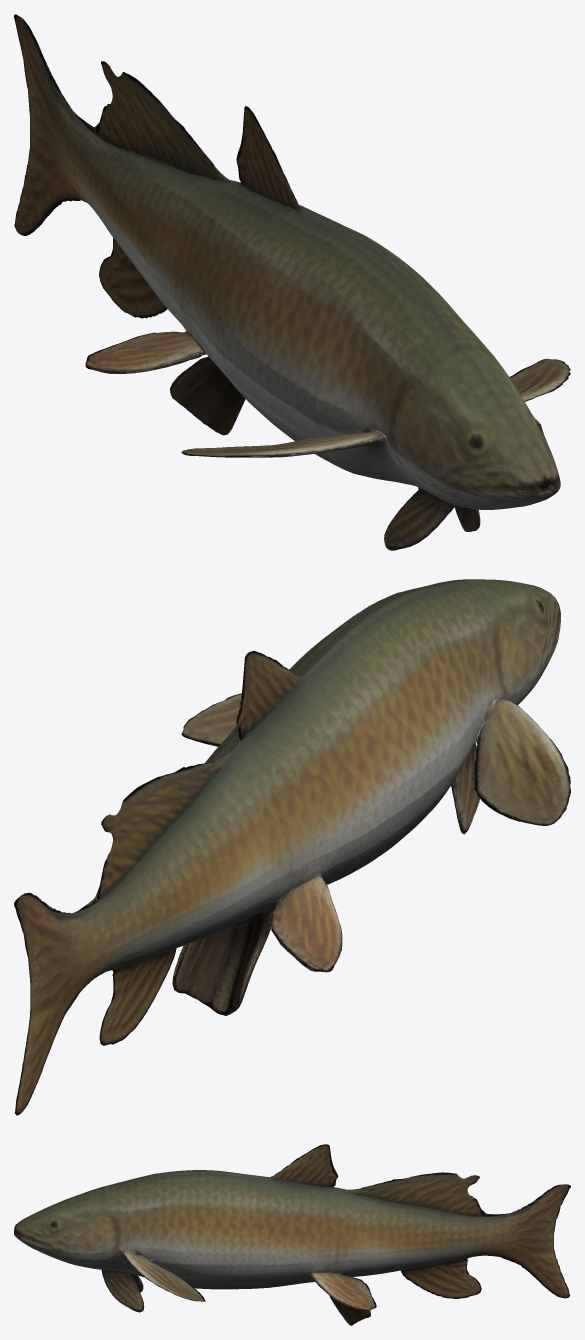
3 renders of one model, top to bottom at view 1: azimuth 30°, elevation 25°; view 2: azimuth 150°, elevation 25°; view 3: azimuth 270°, elevation 25°, orthographic. The views are drawn at different scales.
Parts seen in each view (by area): view 1: world; view 2: world; view 3: world.
Part boxes in pixels (<box>): world: <box>14,14,570,550</box>; world: <box>14,579,570,1115</box>; world: <box>14,1144,570,1325</box>.
Bounding box in the file's own units: 0.0875 × 0.077 × 0.215.
1 material, 1 textured.
